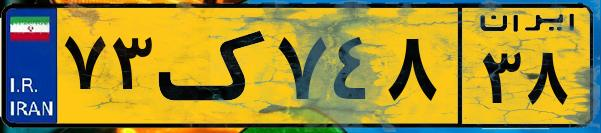3: (475, 38, 525, 113), (110, 28, 158, 98)
4: (330, 28, 385, 110)
7: (270, 28, 330, 110), (57, 26, 110, 100)
8: (385, 28, 445, 110), (525, 38, 570, 115)
ک: (158, 12, 270, 120)
